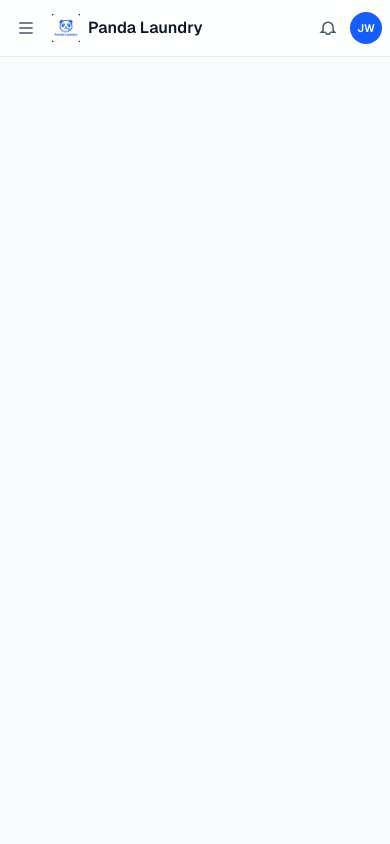
Test case: customer sidebar › opens the menu as a drawer and closes it with Escape or a link
Click the button named "Open menu". click: (26, 28)
box: [8, 10, 44, 46]
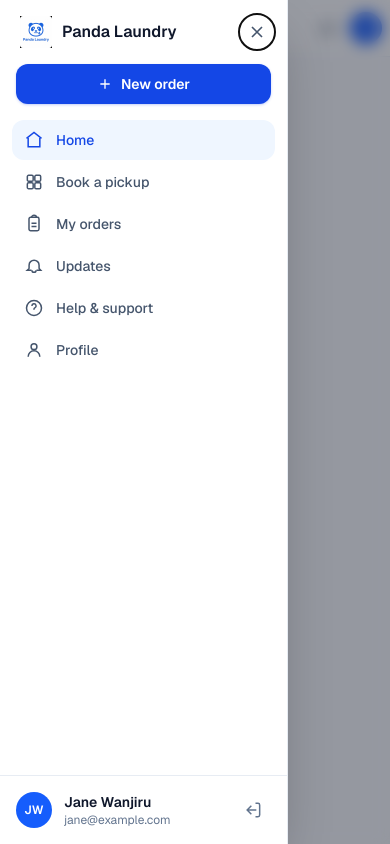
Press Escape
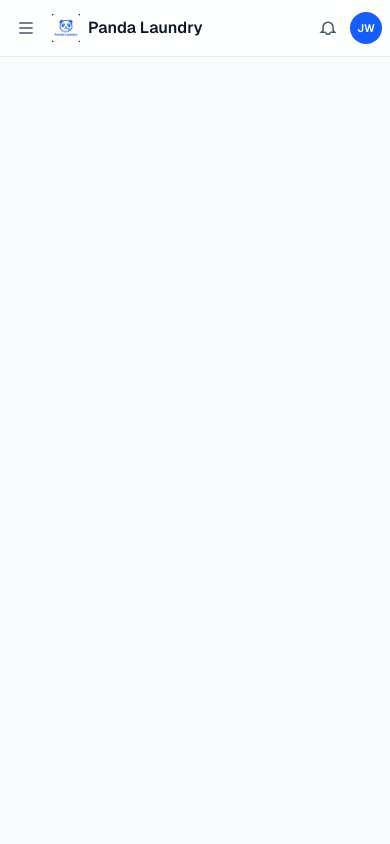
Expected: the button "Menu" is gone
Click the button named "Open menu". click: (26, 28)
box: [8, 10, 44, 46]
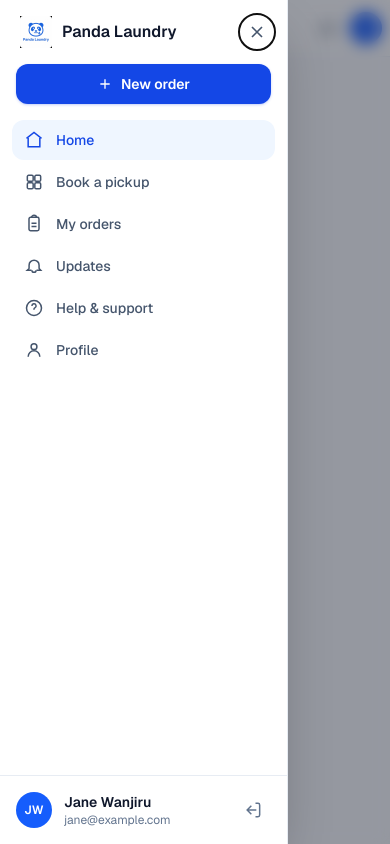
Click the link "Profile". click: (61, 350)
box: [24, 340, 98, 360]
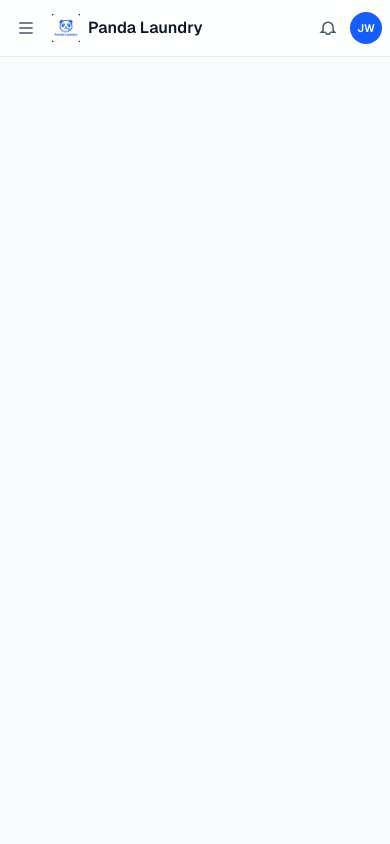
Expected: the button "Menu" is gone
